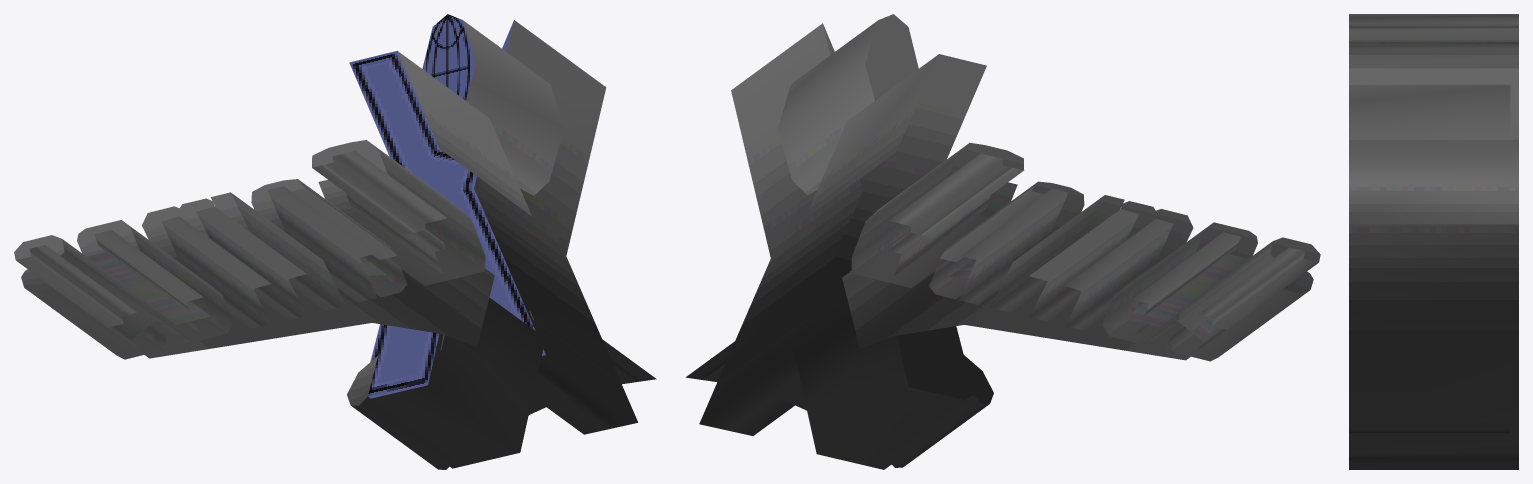
File: ps2_save-icons_espnwinterxgamessnowboarding.glb
3 views of the same model, side by side, from view 1: azimuth 30°, elevation 25°; view 2: azimuth 150°, elevation 25°; view 3: azimuth 270°, elevation 25° (orthographic). The views are drawn at different scales.
Visible parts, largest first — view 1: icon_n.ico; view 2: icon_n.ico; view 3: icon_n.ico.
Part boxes in pixels (x1,y1,x2,y2): icon_n.ico: (14, 14, 656, 469); icon_n.ico: (685, 14, 1320, 469); icon_n.ico: (1349, 14, 1518, 469).
Size of the model in its own units: 4.09 by 2.63 by 1.19.
1 material, 1 textured.
